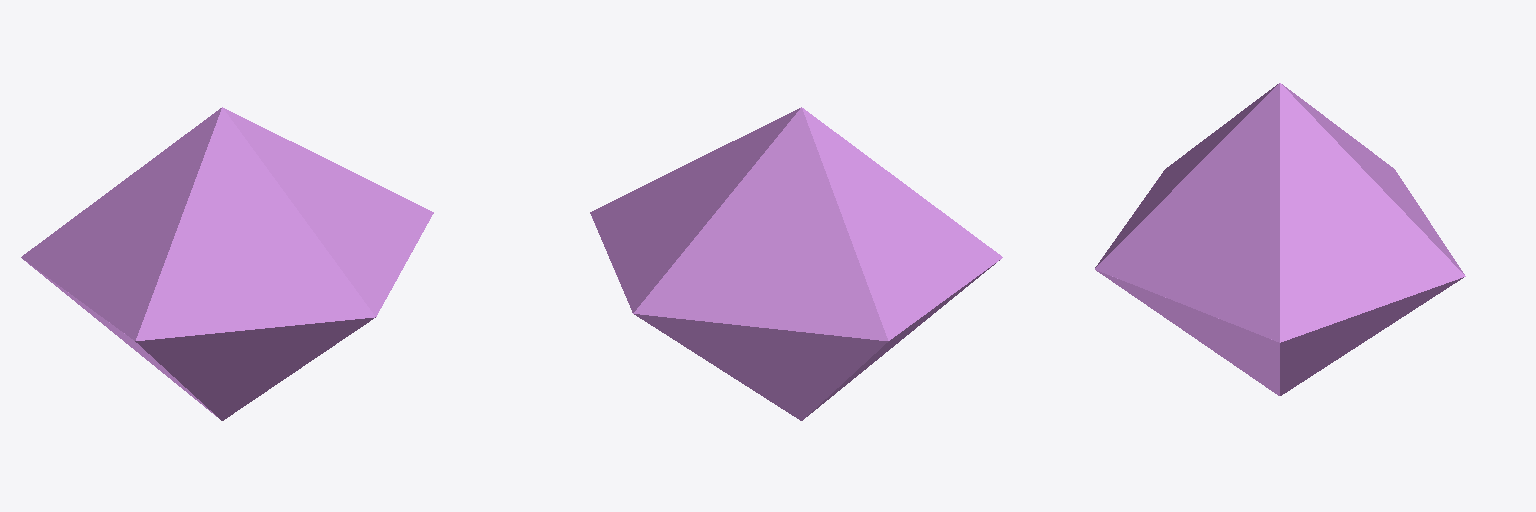
The model's file is weirdD10.obj.
The picture shows the model from 3 angles: view 1: azimuth 30°, elevation 25°; view 2: azimuth 150°, elevation 25°; view 3: azimuth 270°, elevation 25°; orthographic projection.
Visible parts, largest first — view 1: Cone001; view 2: Cone001; view 3: Cone001.
Part boxes in pixels (x1,y1,x2,y2): Cone001: (21, 107, 433, 420); Cone001: (590, 107, 1002, 420); Cone001: (1095, 83, 1465, 395).
Size of the model in its own units: 67.58 by 57.01 by 61.09.